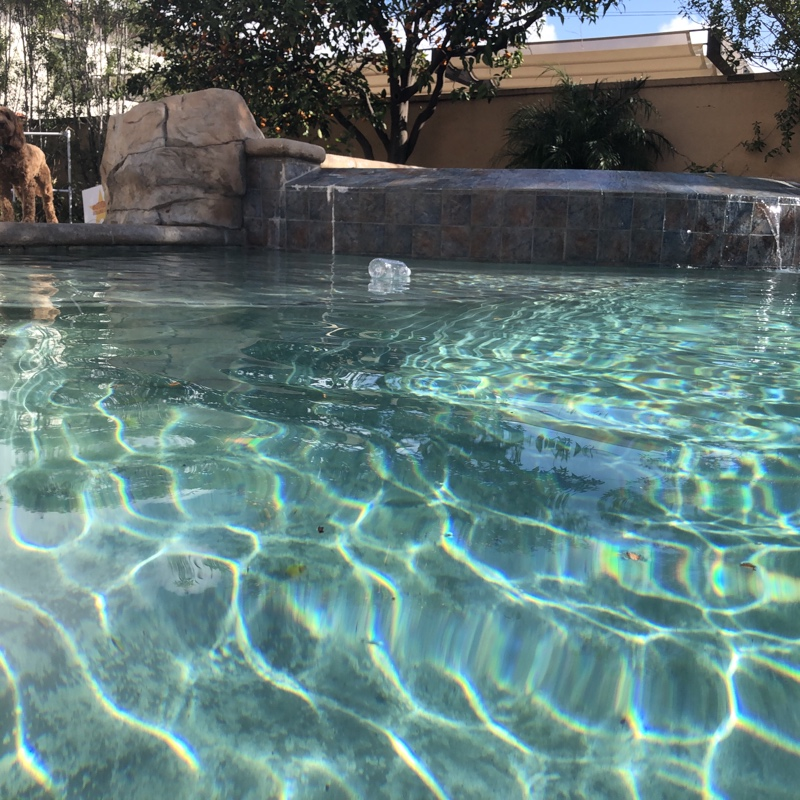Plastic Bottle: (366, 253, 414, 289)
